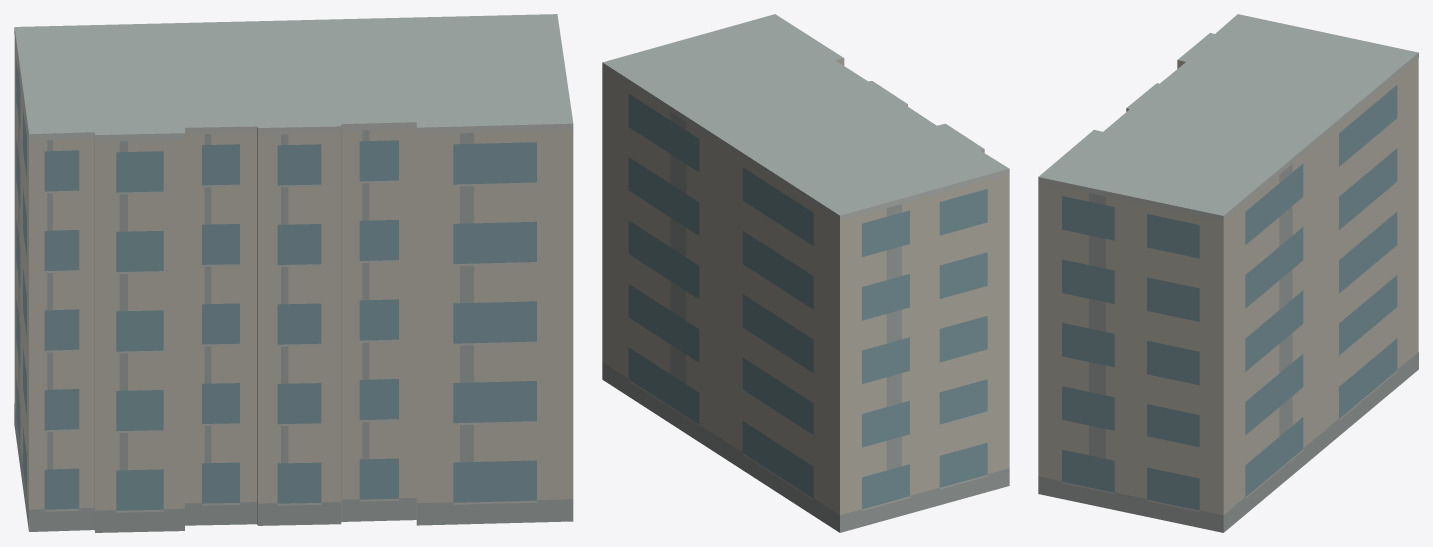
File: survey-upis-32882527.glb
3 views of the same model, side by side, from view 1: azimuth 30°, elevation 25°; view 2: azimuth 150°, elevation 25°; view 3: azimuth 270°, elevation 25° (orthographic). The views are drawn at different scales.
Parts seen in each view (by area): view 1: survey-upis-32882527.tmp; view 2: survey-upis-32882527.tmp; view 3: survey-upis-32882527.tmp.
Boxes of the visible parts, <box> form: survey-upis-32882527.tmp: <box>14,14,573,532</box>; survey-upis-32882527.tmp: <box>602,14,1009,532</box>; survey-upis-32882527.tmp: <box>1038,14,1418,532</box>.
Size of the model in its own units: 19.55 by 14.3 by 15.57.
